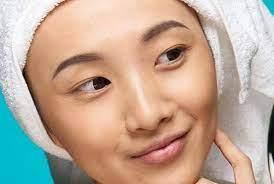Dry-Skin: (113, 135, 164, 159), (70, 103, 110, 129), (190, 81, 234, 92), (190, 100, 201, 117), (200, 124, 215, 129)
